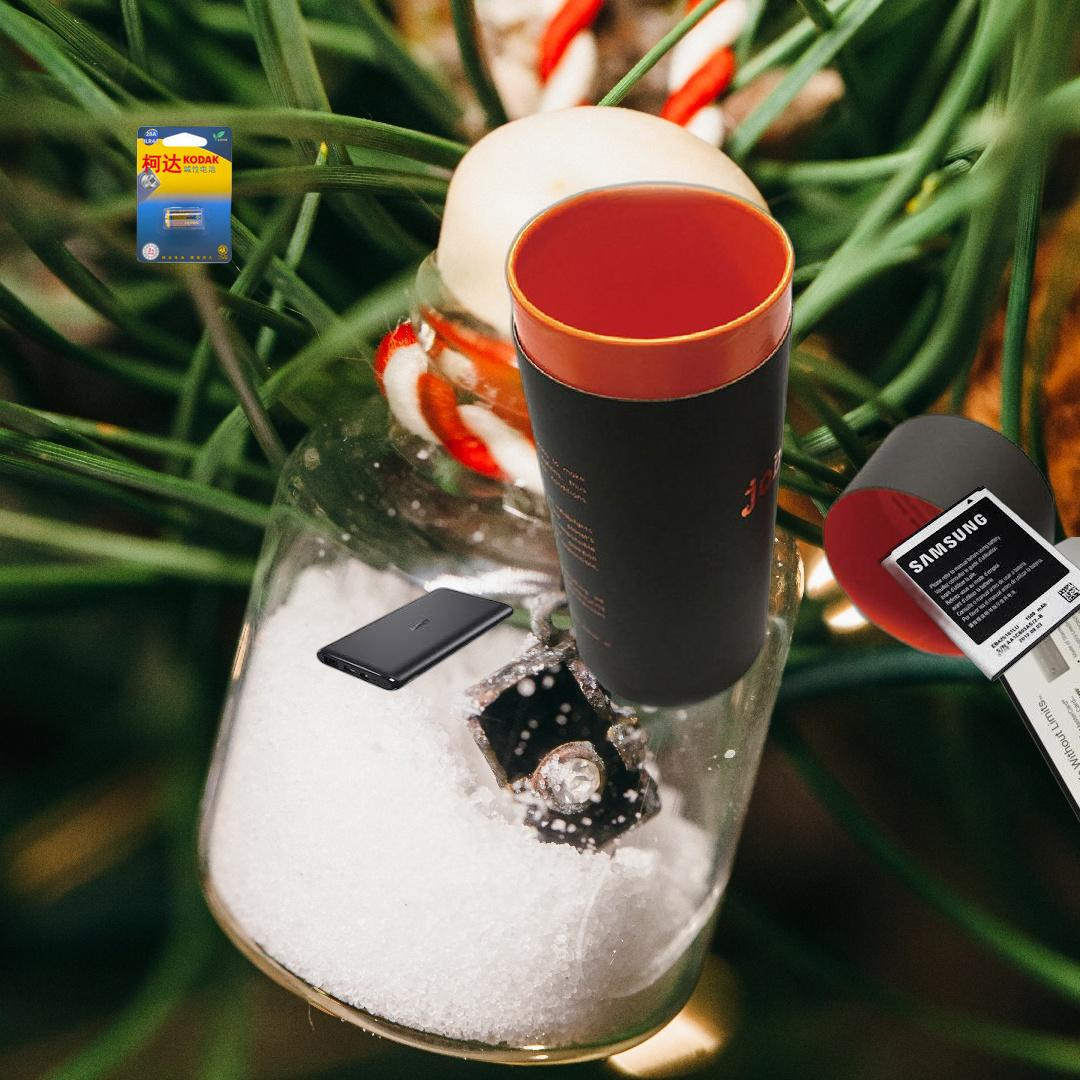battery: (876, 483, 1080, 690), (314, 585, 517, 694), (134, 123, 247, 268)
paper: (959, 537, 1080, 903)
trashbox-cardboard: (501, 175, 1060, 716)
